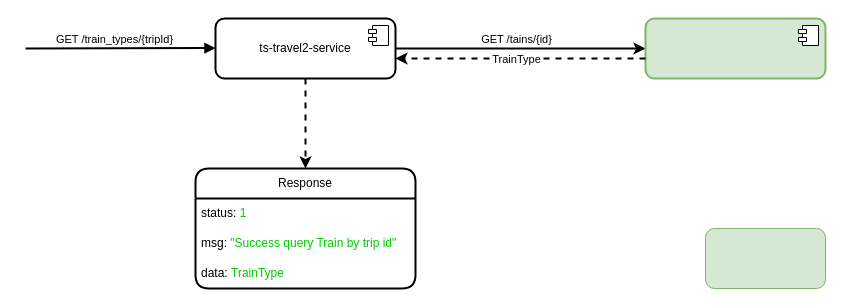
Image size: 843x306. Some labels were removed from this diagram. Here are the shapes that lost their labels. From the top down, the centre of each, then its label:
pixel 735 48: ts-train-service
pixel 765 258: Service & Database
